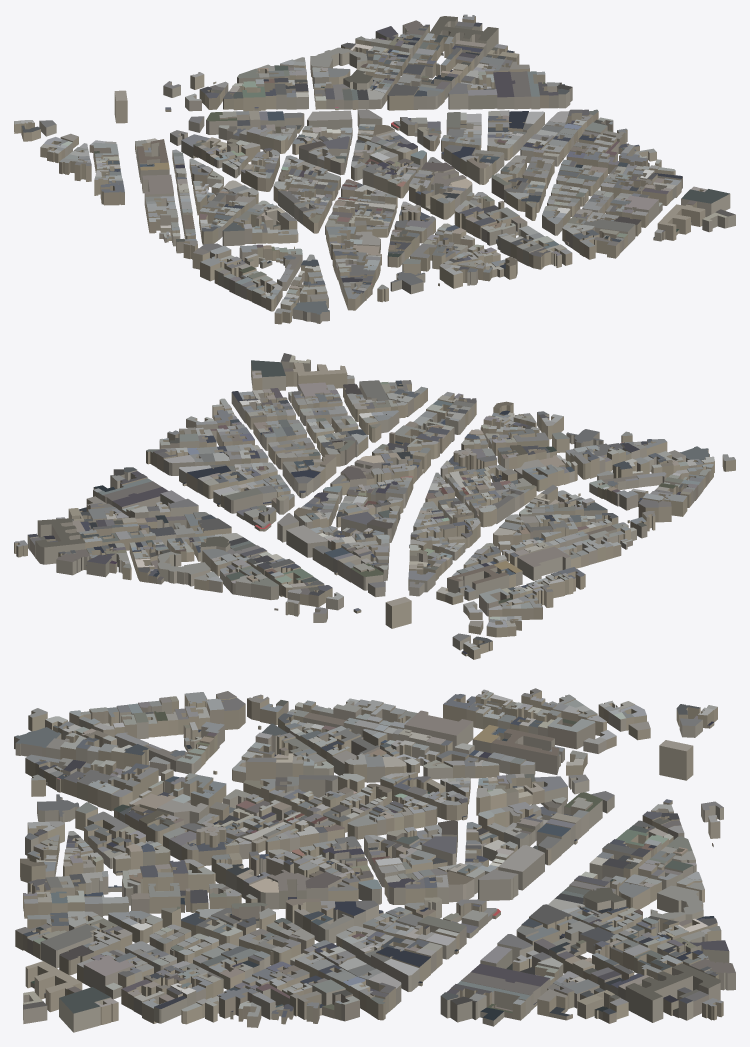
3 views of the same model, one above another, from view 1: azimuth 30°, elevation 25°; view 2: azimuth 150°, elevation 25°; view 3: azimuth 270°, elevation 25° (orthographic). The views are drawn at different scales.
Parts seen in each view (by area): view 1: tuile; view 2: tuile; view 3: tuile.
Boxes of the visible parts, x1,y1,x2,y2 form: tuile: (14, 14, 735, 324); tuile: (14, 353, 735, 659); tuile: (14, 688, 735, 1032).
Size of the model in its own units: 1052 by 79.15 by 1049.
